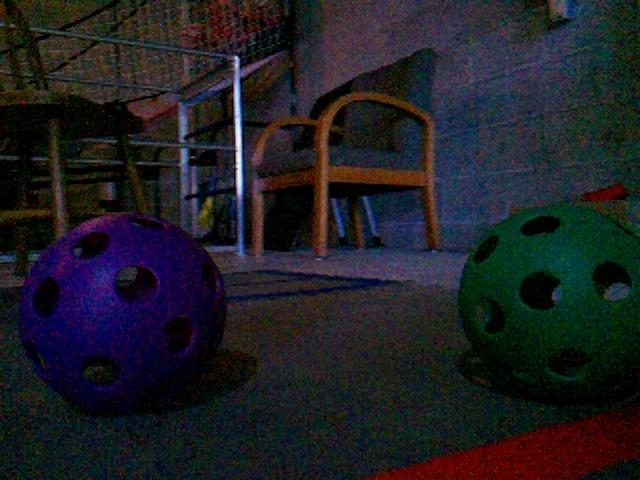Green: (454, 198, 637, 405)
Purple: (16, 209, 229, 413)
